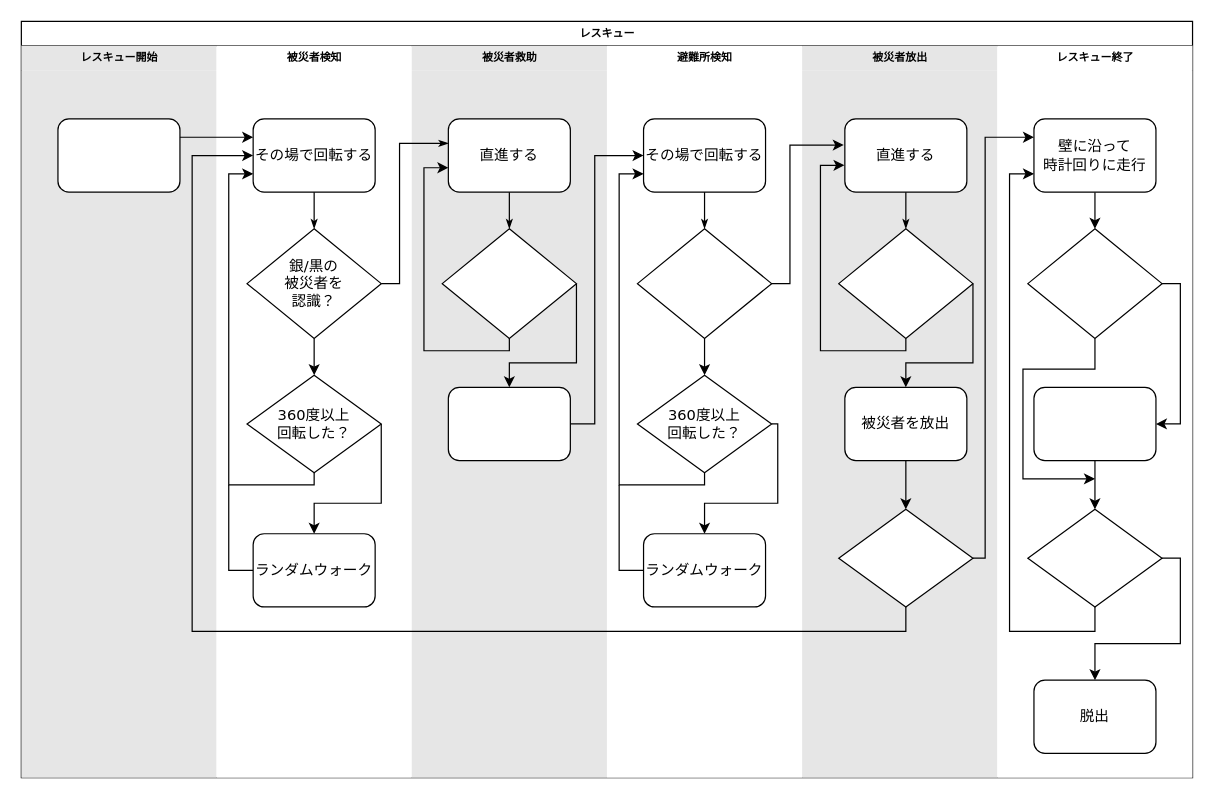
Some shapes in this 1214 by 799 pixel diagram are drawn without their labels. The shapes that lost their labels are listed below. From the top down, each one's centre as x and y in pixels, then its label:
At [118,155]: "銀テープを検知 レスキュー開始".
At [508,283]: "前方の 距離センサが 4cm以下？".
At [704,283]: "緑/赤の 避難所を 認識？".
At [905,283]: "前方の バンパーが 左右ともに 反応？".
At [1094,283]: "左側の 距離センサ が 10cm以上？".
At [508,423]: "被災者を回収".
At [1094,423]: "左に旋回".
At [905,557]: "3人を 救助した？".
At [1094,557]: "ラインセンサが 銀を認識？".
